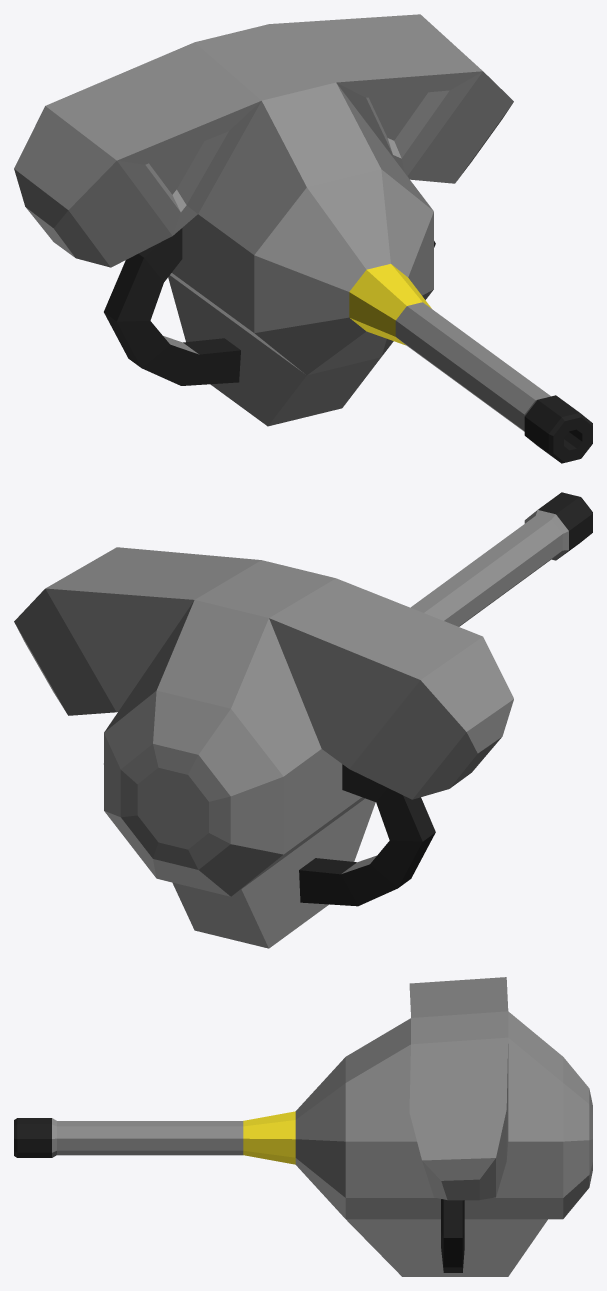
Rendered from LaserTurret.fbx.
3 views of the same model, one above another, from view 1: azimuth 30°, elevation 25°; view 2: azimuth 150°, elevation 25°; view 3: azimuth 270°, elevation 25° (orthographic). The views are drawn at different scales.
Parts seen in each view (by area): view 1: TurretHead; view 2: TurretHead; view 3: TurretHead.
Part boxes in pixels (left/top/right/bottom): TurretHead: left=14, top=14, right=592, bottom=463; TurretHead: left=14, top=492, right=592, bottom=948; TurretHead: left=14, top=977, right=592, bottom=1276.
Size of the model in its own units: 130 by 90.42 by 198.
